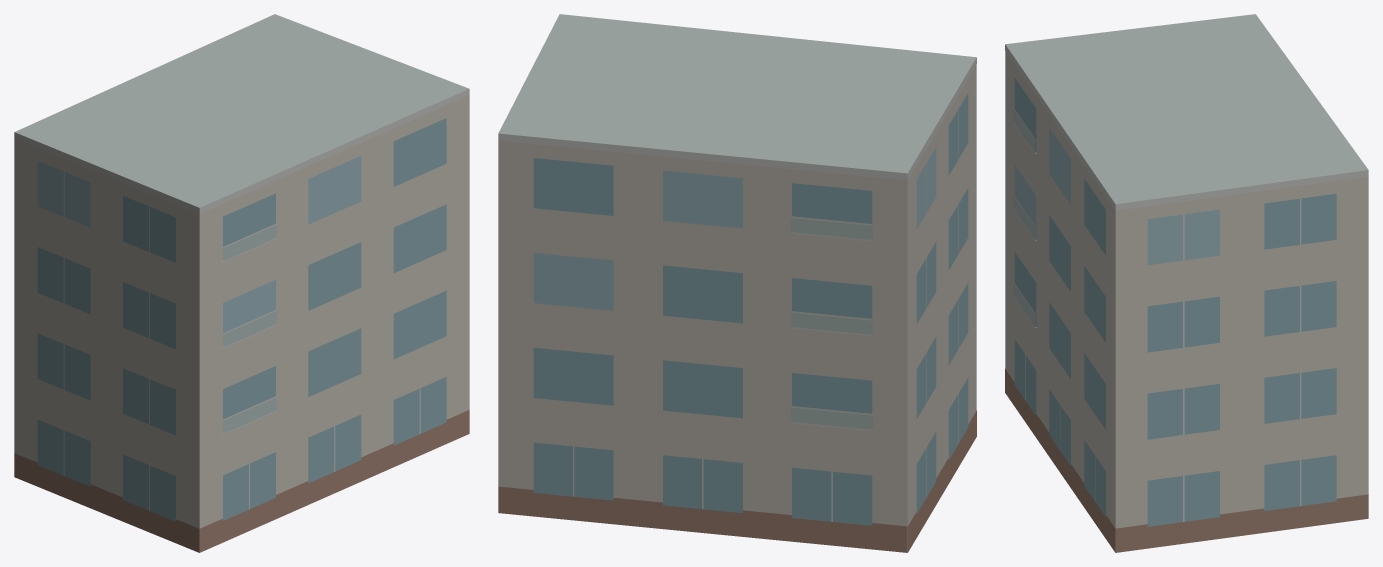
The model's file is survey-upis-32700431.glb.
The picture shows the model from 3 angles, left to right: view 1: azimuth 30°, elevation 25°; view 2: azimuth 150°, elevation 25°; view 3: azimuth 270°, elevation 25°; orthographic projection. The views are drawn at different scales.
Visible parts, largest first — view 1: survey-upis-32700431.tmp; view 2: survey-upis-32700431.tmp; view 3: survey-upis-32700431.tmp.
Part boxes in pixels (x1=…): survey-upis-32700431.tmp: x1=14, y1=14, x2=469, y2=552; survey-upis-32700431.tmp: x1=498, y1=14, x2=976, y2=552; survey-upis-32700431.tmp: x1=1005, y1=14, x2=1368, y2=552.
Size of the model in its own units: 15.4 by 13.15 by 12.43.
